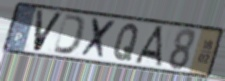8: (168, 27, 197, 72)
A: (132, 24, 165, 69)
D: (51, 12, 88, 56)
Q: (112, 23, 141, 63)
V: (32, 8, 66, 53)
X: (78, 16, 120, 62)
